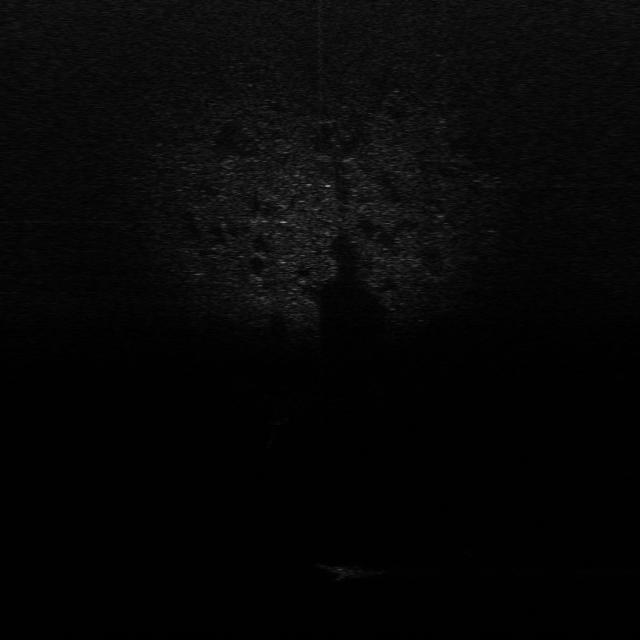metal bucket: (327, 560, 381, 580)
